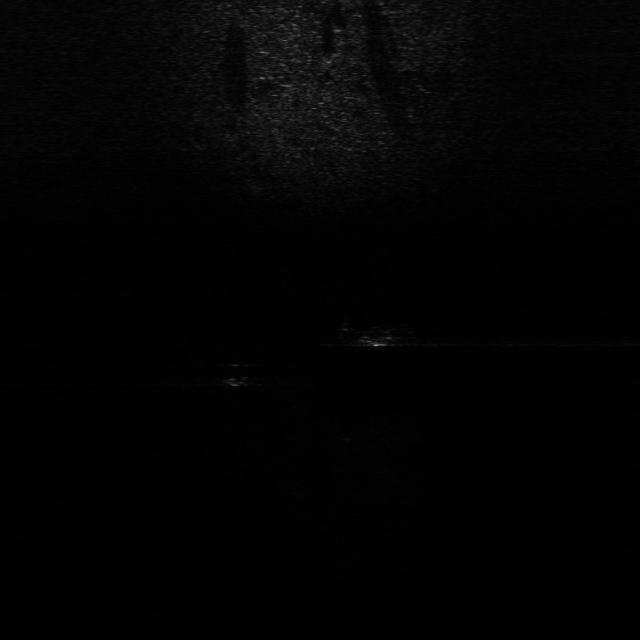ball: (218, 361, 251, 389)
human body: (339, 313, 418, 353)
